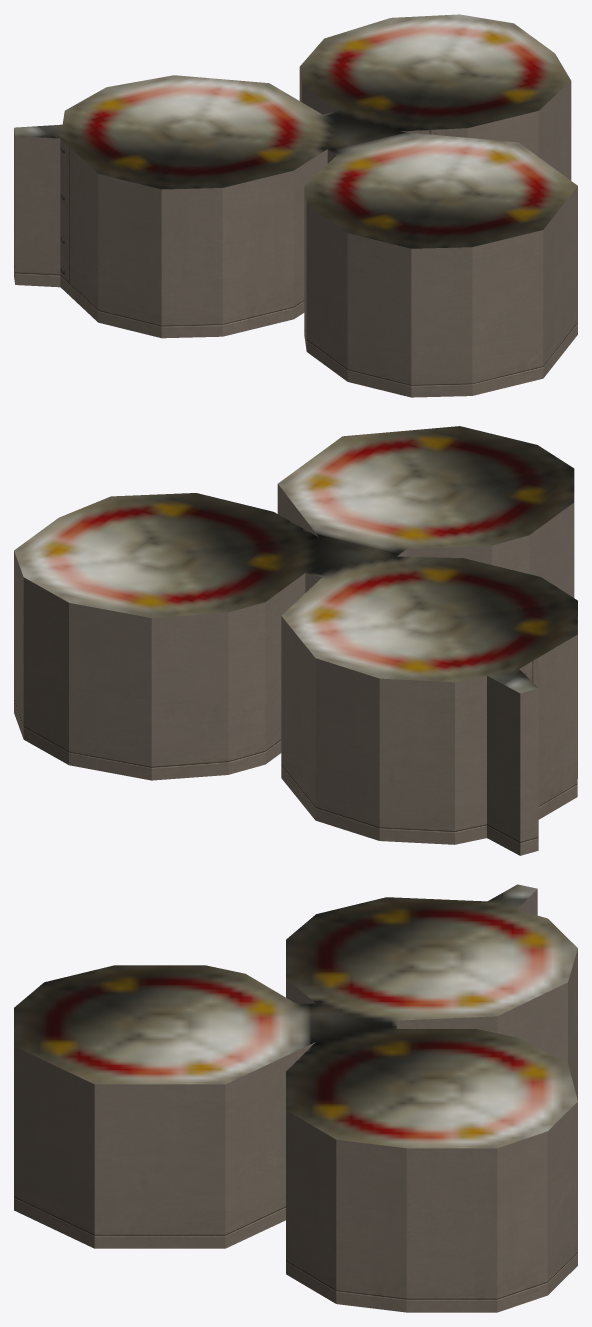
Rendered from fuel_tank_light_32.glb.
The picture shows the model from 3 angles, top to bottom: view 1: azimuth 30°, elevation 25°; view 2: azimuth 150°, elevation 25°; view 3: azimuth 270°, elevation 25°; orthographic projection. The views are drawn at different scales.
Visible parts, largest first — view 1: buildings/saxarba/fuel_tanks/fuel_tank_light_32; view 2: buildings/saxarba/fuel_tanks/fuel_tank_light_32; view 3: buildings/saxarba/fuel_tanks/fuel_tank_light_32.
Boxes of the visible parts, x1,y1,x2,y2 form: buildings/saxarba/fuel_tanks/fuel_tank_light_32: (14,14,577,397); buildings/saxarba/fuel_tanks/fuel_tank_light_32: (14,426,577,855); buildings/saxarba/fuel_tanks/fuel_tank_light_32: (14,884,577,1312).
Bounding box in the file's own units: 62 × 18 × 56.
